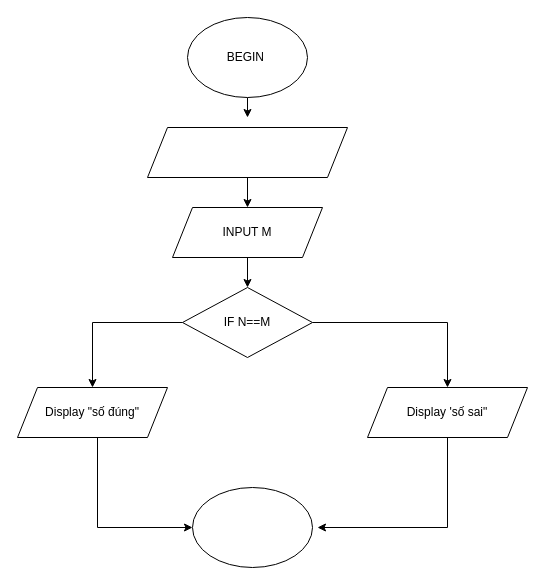
This 545x585 diagram has some shape labels left out. The box of each missing label's shape, as (x1, y1, x2, y2) in pixels:
END: (192, 486, 312, 568)
INPUT N ngẫu nhiên từ 0-9: (146, 126, 348, 178)
